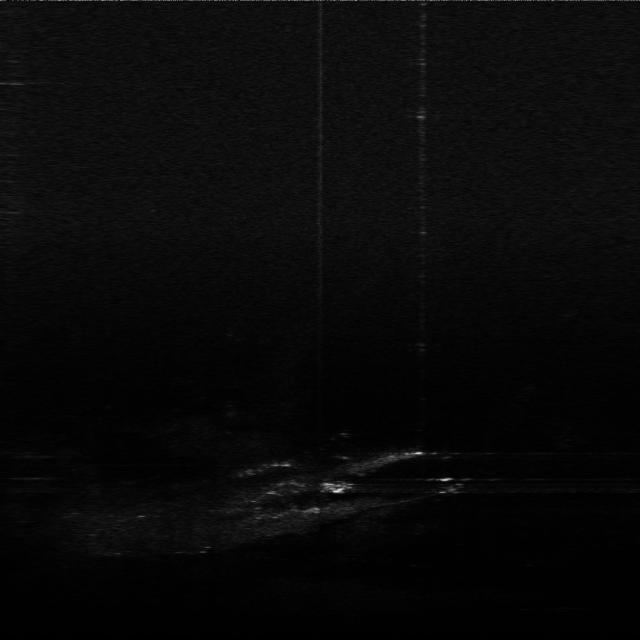rov: (320, 477, 354, 497)
